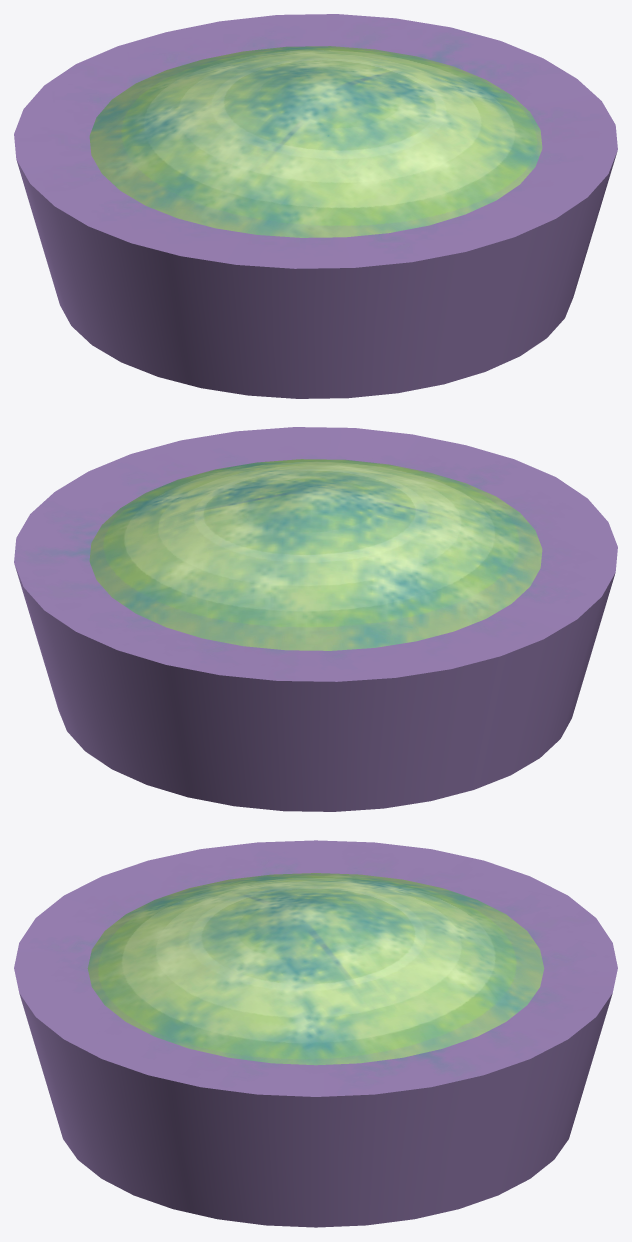
File: Button01UV new 1.fbx
The picture shows the model from 3 angles, top to bottom: view 1: azimuth 30°, elevation 25°; view 2: azimuth 150°, elevation 25°; view 3: azimuth 270°, elevation 25°; orthographic projection.
Parts seen in each view (by area): view 1: Button off; view 2: Button off; view 3: Button off.
Boxes of the visible parts, left/top/right/bottom form: Button off: left=14, top=14, right=617, bottom=398; Button off: left=14, top=427, right=617, bottom=811; Button off: left=14, top=840, right=617, bottom=1227.
Size of the model in its own units: 0.1421 by 0.0531 by 0.1413.
